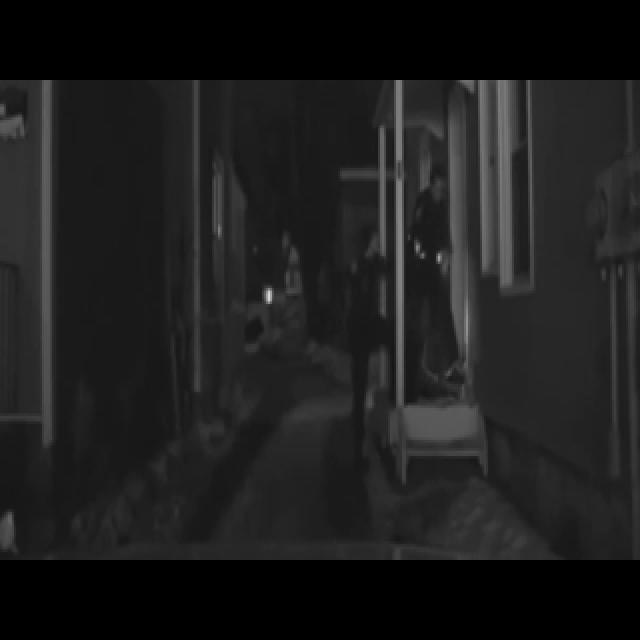shooting: (313, 48, 512, 490)
